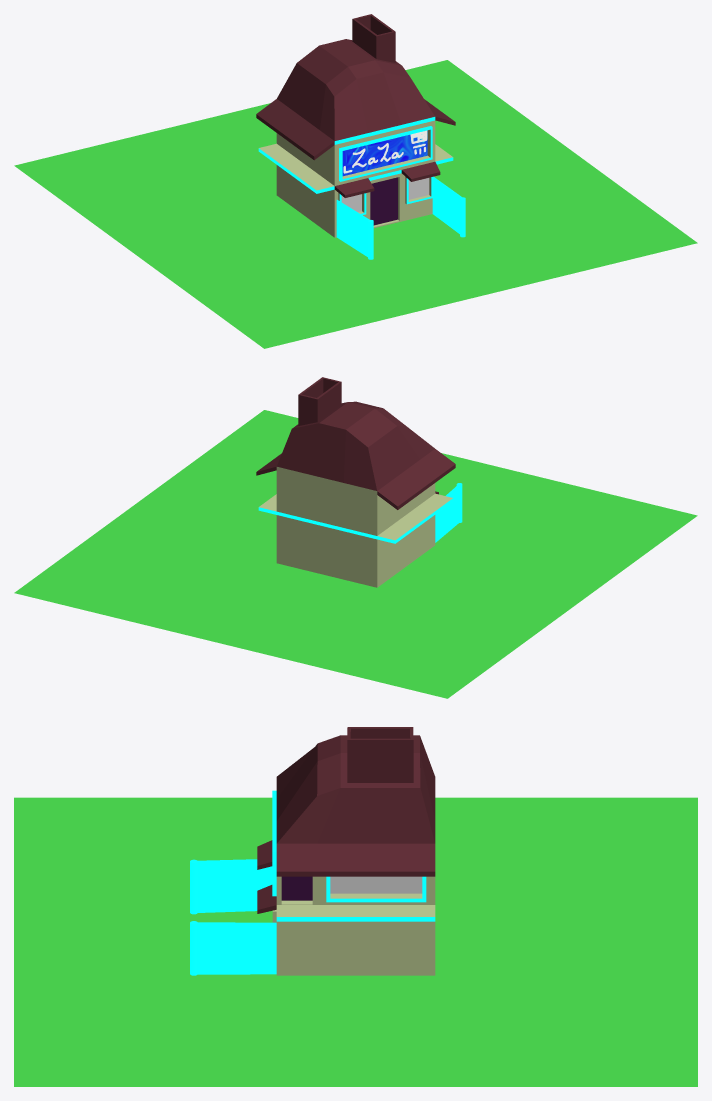
File: titled.gltf
3 renders of one model, top to bottom at view 1: azimuth 30°, elevation 25°; view 2: azimuth 150°, elevation 25°; view 3: azimuth 270°, elevation 25°, orthographic. The views are drawn at different scales.
Visible parts, largest first — view 1: Cube; view 2: Cube; view 3: Cube.
Boxes of the visible parts, left/top/right/bottom form: Cube: left=14, top=14, right=697, bottom=348; Cube: left=14, top=377, right=697, bottom=698; Cube: left=14, top=727, right=697, bottom=1086.
Size of the model in its own units: 41.13 by 17.2 by 41.13.
Materials: 8 (1 with a texture image).
